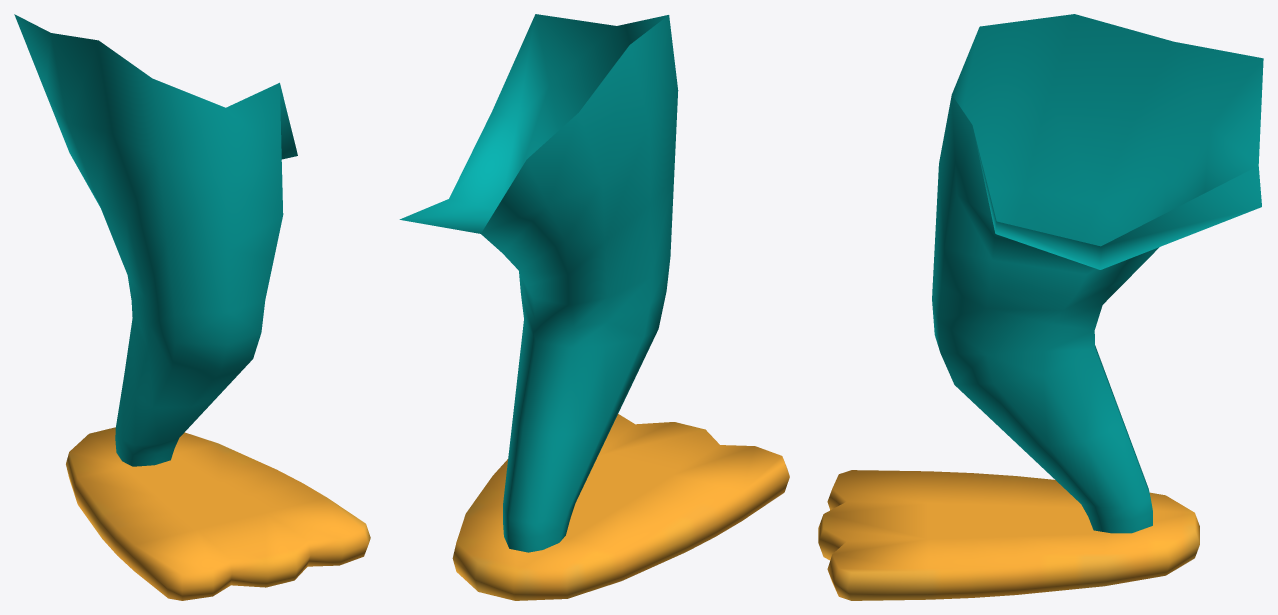
File: Pie_derechoPerry.obj
3 renders of one model, left to right at view 1: azimuth 30°, elevation 25°; view 2: azimuth 150°, elevation 25°; view 3: azimuth 270°, elevation 25°, orthographic. The views are drawn at different scales.
Parts seen in each view (by area): view 1: PieDer; view 2: PieDer; view 3: PieDer.
Boxes of the visible parts, <box> form: PieDer: <box>14,14,370,600</box>; PieDer: <box>399,14,789,600</box>; PieDer: <box>818,14,1263,600</box>.
Size of the model in its own units: 0.3997 by 0.8883 by 0.713.
